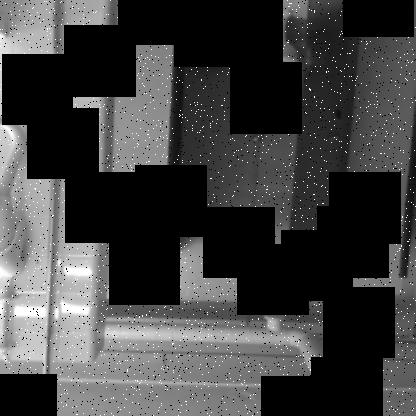Porte: (159, 1, 363, 302)
